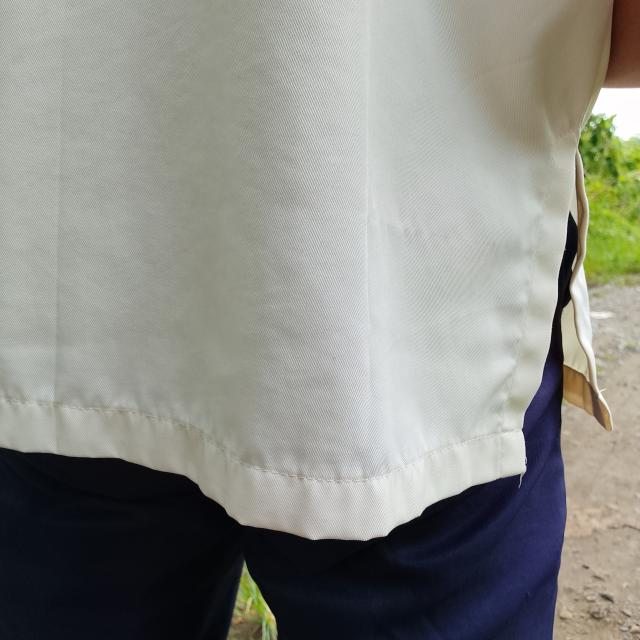education_male_uniform: (6, 0, 637, 526)
